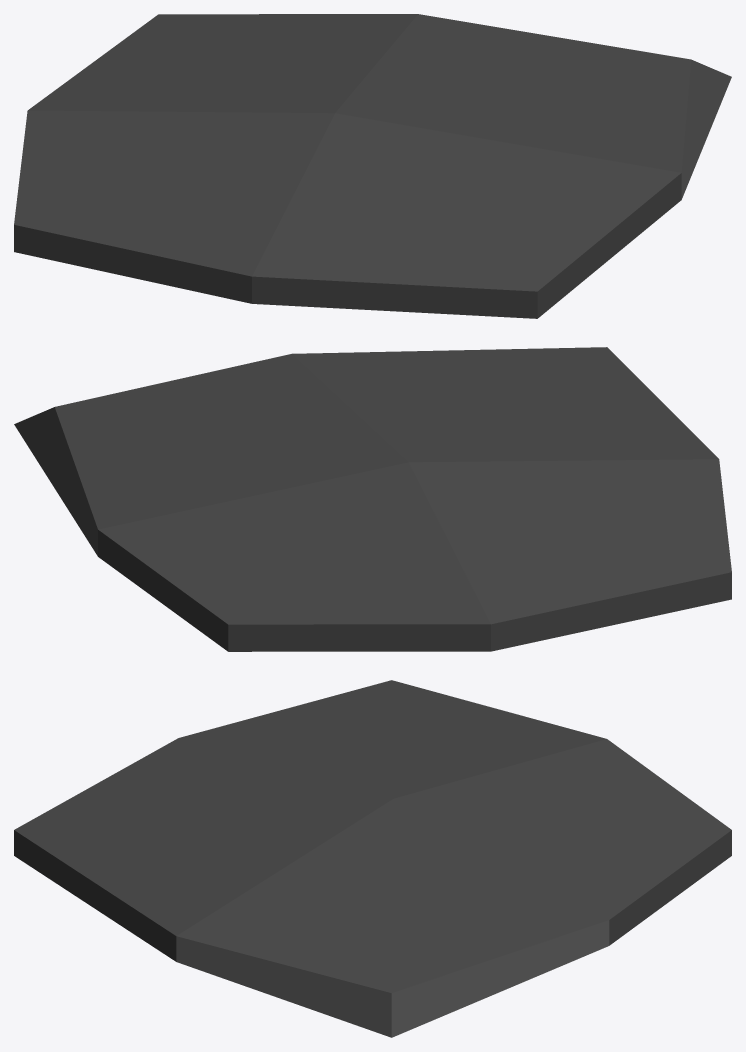
File: roadrock_1a.fbx
3 renders of one model, top to bottom at view 1: azimuth 30°, elevation 25°; view 2: azimuth 150°, elevation 25°; view 3: azimuth 270°, elevation 25°, orthographic. The views are drawn at different scales.
Parts seen in each view (by area): view 1: roadrock_1a; view 2: roadrock_1a; view 3: roadrock_1a.
Boxes of the visible parts, x1,y1,x2,y2 form: roadrock_1a: (14, 14, 731, 318); roadrock_1a: (14, 347, 731, 651); roadrock_1a: (14, 680, 731, 1037).
Bounding box in the file's own units: 184 × 14.52 × 168.
